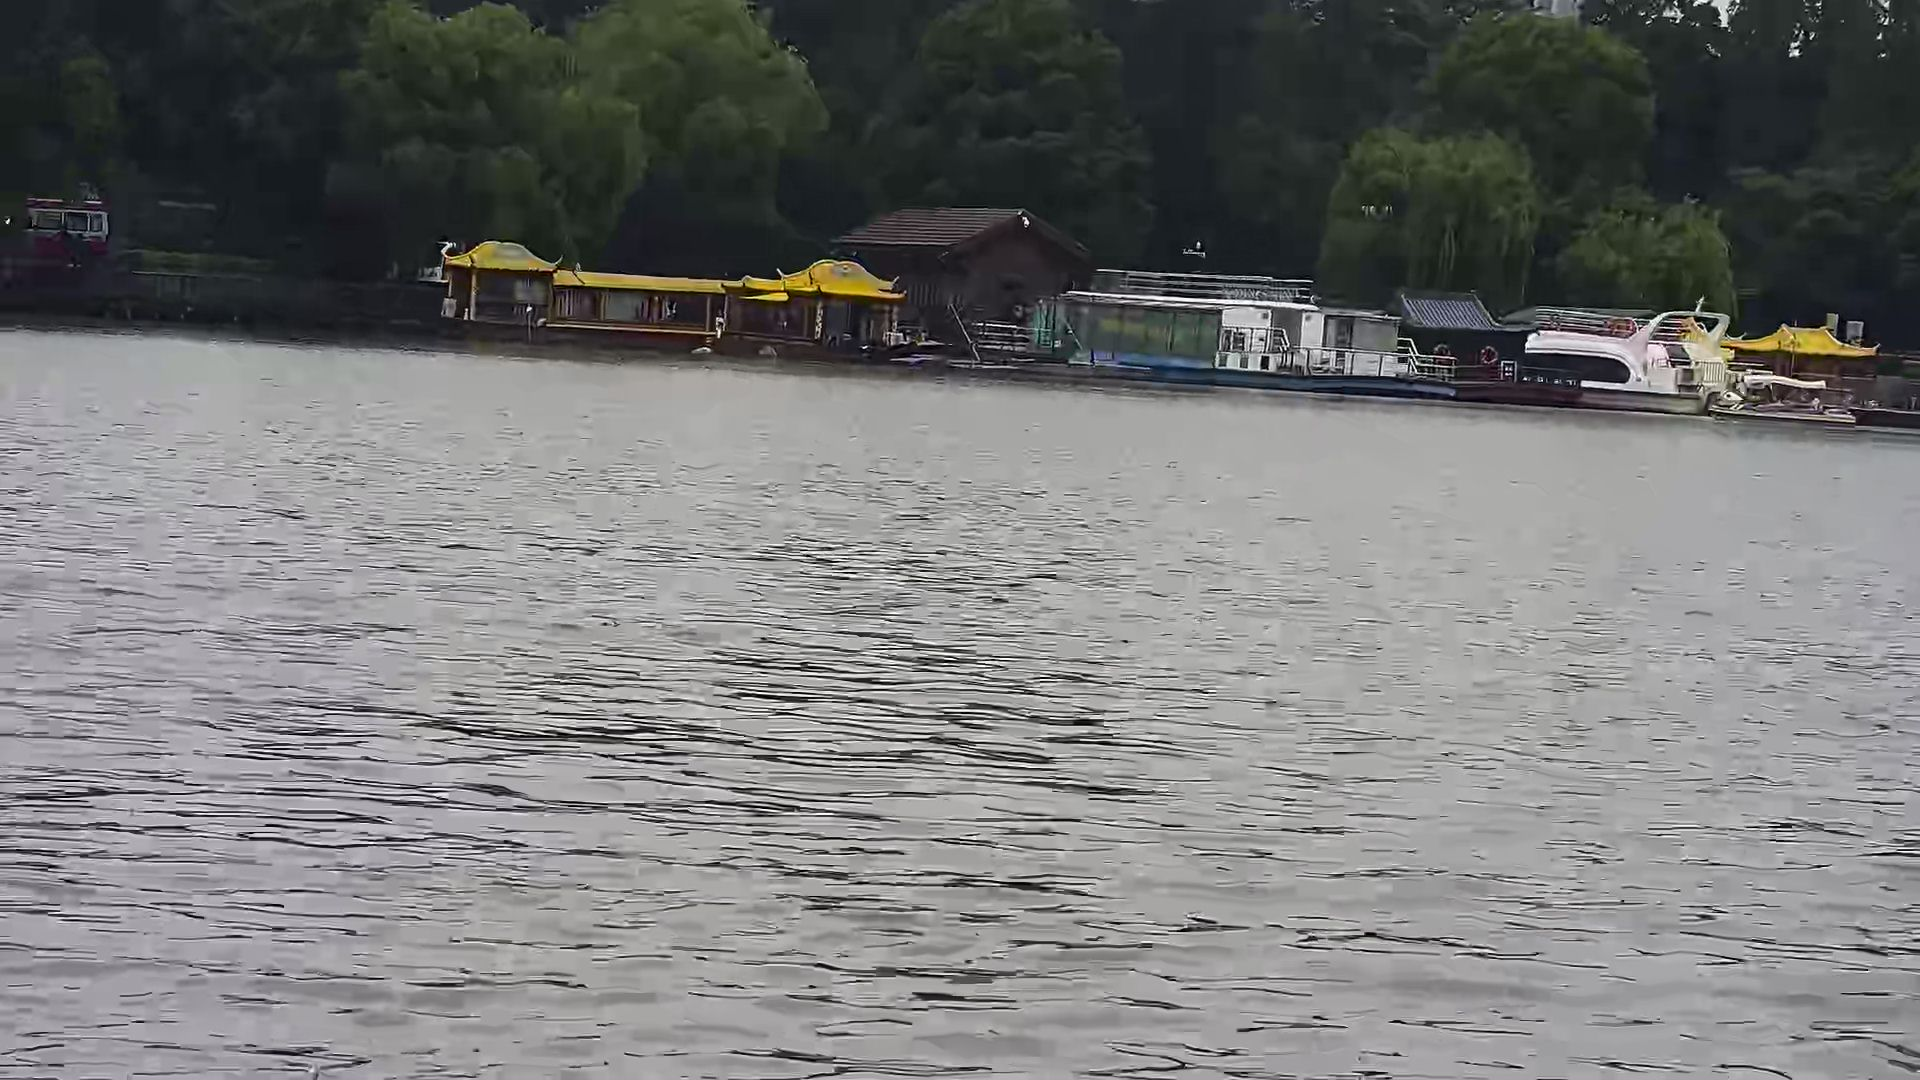harbor: (436, 202, 1903, 451)
